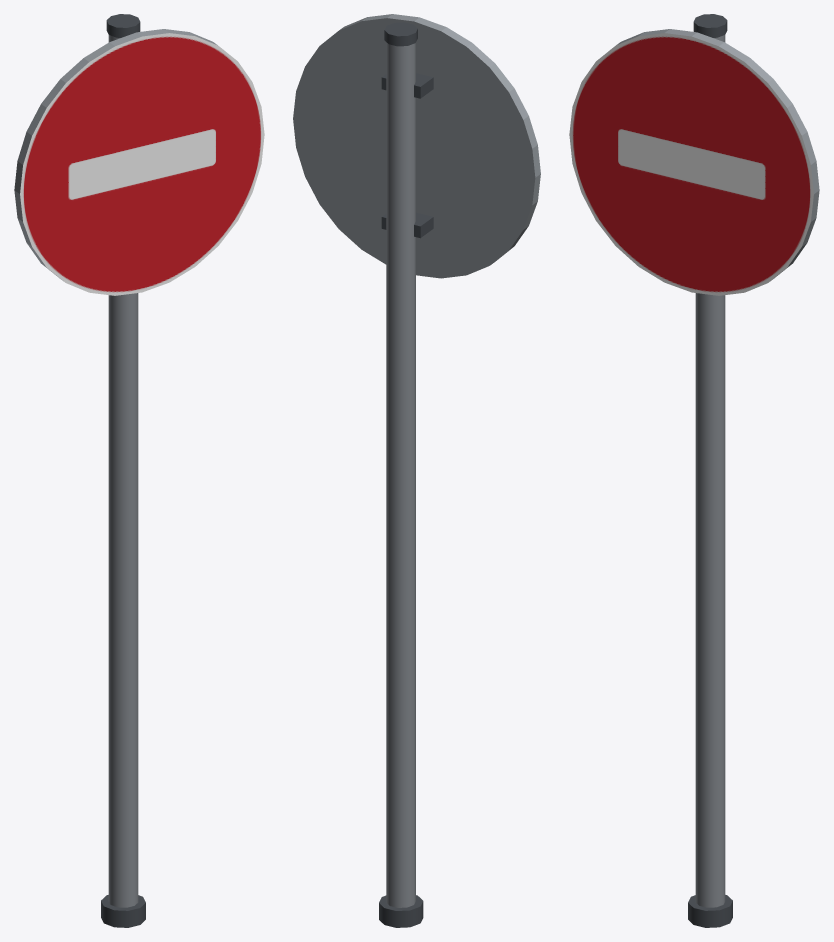
The model's file is placa-sentido-proibido.glb.
3 renders of one model, left to right at view 1: azimuth 30°, elevation 25°; view 2: azimuth 150°, elevation 25°; view 3: azimuth 330°, elevation 25°, orthographic.
Parts seen in each view (by area): view 1: Placa, Poste; view 2: Placa, Poste, Suportes; view 3: Placa, Poste.
Boxes of the visible parts, x1,y1,x2,y2 form: Placa: (14, 29, 264, 295); Poste: (101, 14, 145, 927); Placa: (293, 14, 540, 278); Poste: (379, 22, 423, 927); Suportes: (381, 73, 433, 238); Placa: (569, 29, 819, 295); Poste: (688, 14, 732, 927).
Bounding box in the file's own units: 0.75 × 2.63 × 0.1571.
4 materials, 1 textured.
